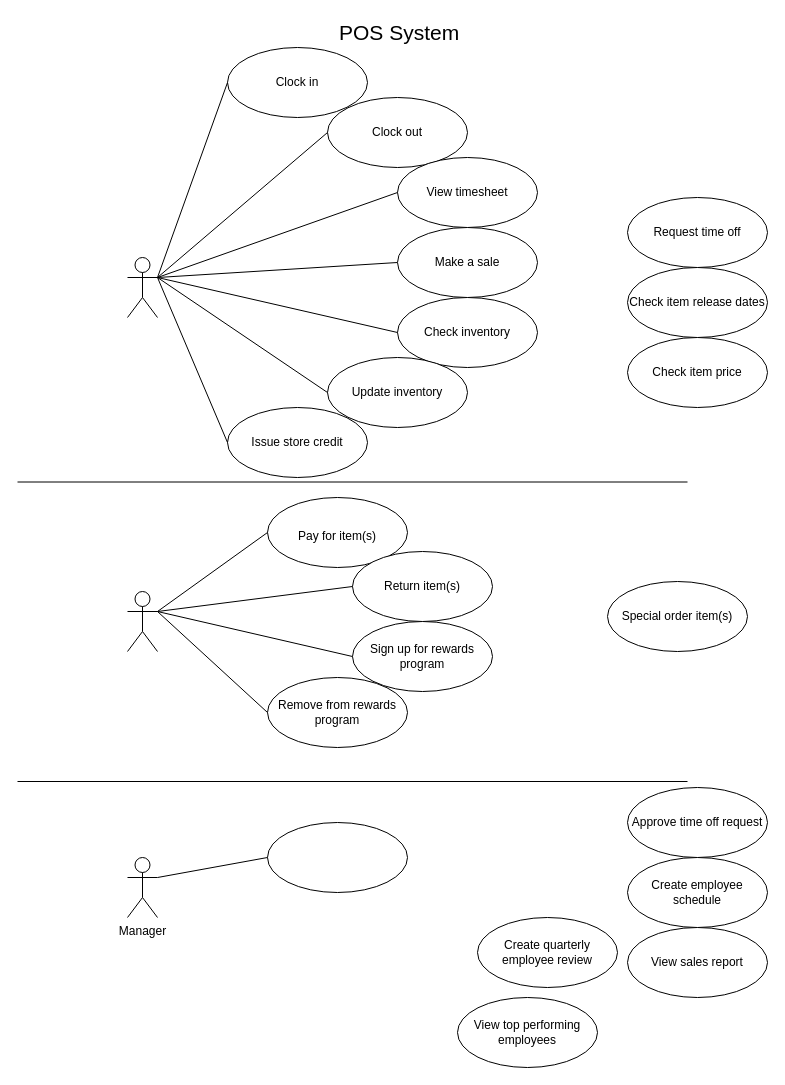
Image size: 785x1085. Some labels were removed from this diagram. Here are the shapes that lost their labels. From the top down, the centre of each, then its label:
pixel 142 287: Employee
pixel 142 621: Customer
pixel 337 857: Hire employee
